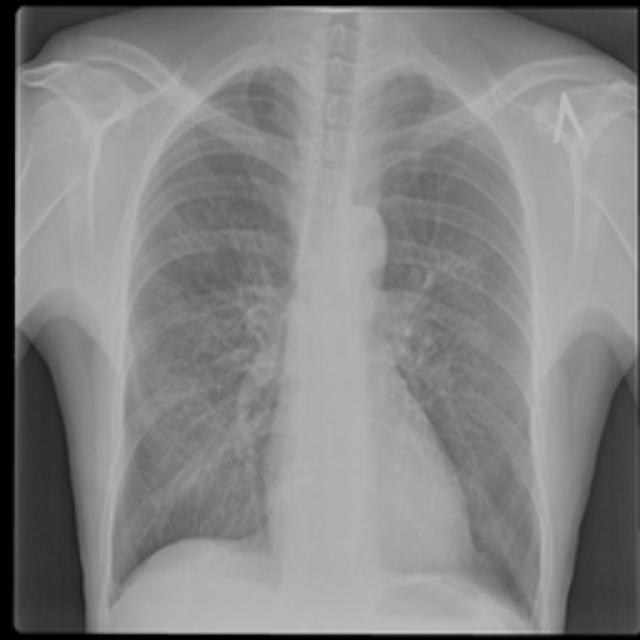tuberculosis: (21, 3, 640, 640)
